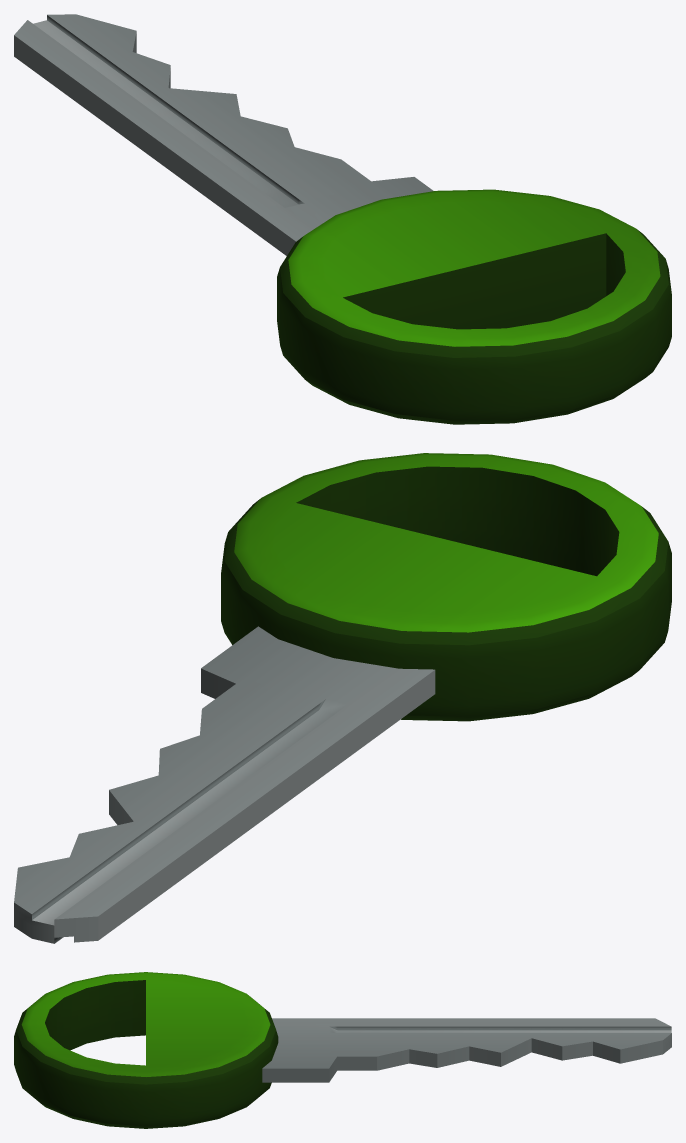
Rendered from chiave_verde.fbx.
3 views of the same model, one above another, from view 1: azimuth 30°, elevation 25°; view 2: azimuth 150°, elevation 25°; view 3: azimuth 270°, elevation 25° (orthographic). The views are drawn at different scales.
Visible parts, largest first — view 1: chiave_verde; view 2: chiave_verde; view 3: chiave_verde.
Boxes of the visible parts, x1,y1,x2,y2 form: chiave_verde: [14, 14, 671, 424]; chiave_verde: [14, 453, 671, 943]; chiave_verde: [14, 972, 671, 1128].
Bounding box in the file's own units: 3.05 × 0.7074 × 7.6.
